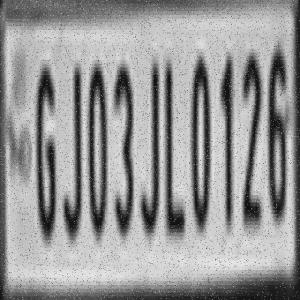Plate: (3, 4, 295, 290)
